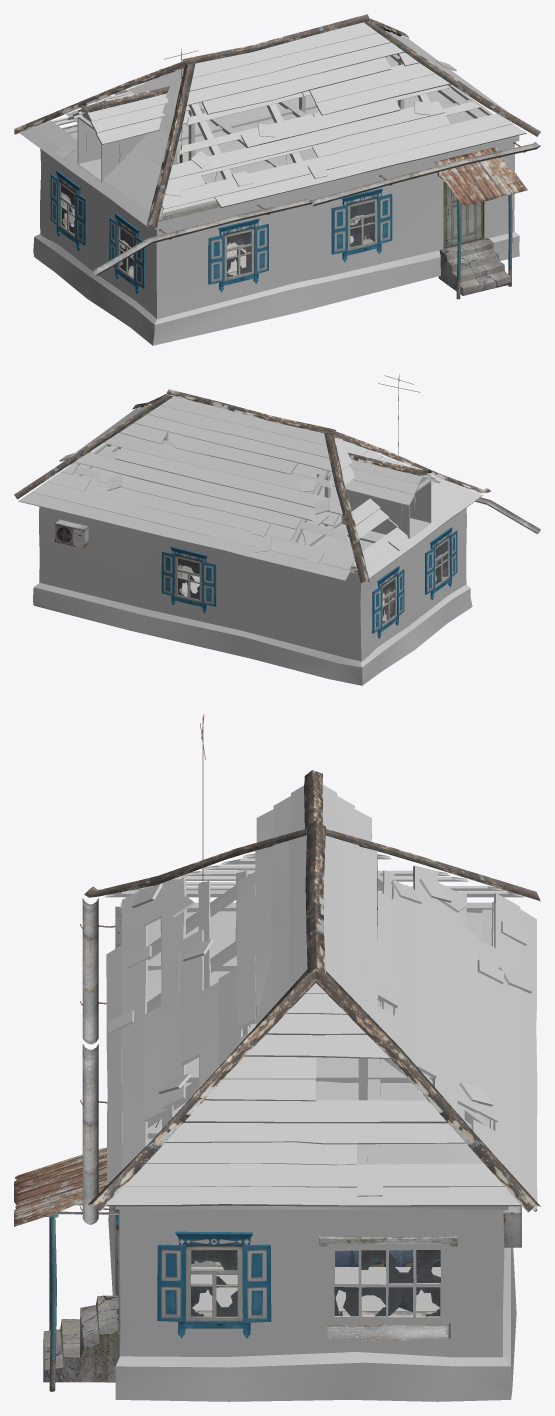
Rendered from Houses_Ready_10.FBX.
The picture shows the model from 3 angles, top to bottom: view 1: azimuth 30°, elevation 25°; view 2: azimuth 150°, elevation 25°; view 3: azimuth 270°, elevation 25°; orthographic projection. The views are drawn at different scales.
Parts seen in each view (by area): view 1: Roof_16, Corps_01_7, Foundation_04, Attic_05, Peak_04, Windows_12_2 (×2), Windows_12 (×2), Porch_02_1, Drain_01, Porch_02_2, Wood_Roof_16_2, Door_03 (+2 smaller); view 2: Roof_16, Corps_01_7, Foundation_04, Peak_04, Windows_12_2 (×2), Attic_05, Wood_Roof_16_2, Windows_12, Air_01, Peak_04_2, Drain_01; view 3: Roof_16, Corps_01_7, Foundation_04, Peak_04, Attic_05, Windows_12_2, Drain_01, Porch_02_1, Porch_02_2, Windows_Big_04, Outflow_Big_01, Peak_04_2.
Part boxes in pixels (x1,y1,x2,y2): Roof_16: [19, 22, 526, 226]; Corps_01_7: [40, 124, 519, 319]; Foundation_04: [33, 232, 519, 345]; Attic_05: [56, 54, 493, 220]; Peak_04: [14, 14, 540, 228]; Windows_12_2 (×2): [50, 170, 268, 292]; Windows_12 (×2): [109, 188, 392, 293]; Porch_02_1: [434, 147, 527, 299]; Drain_01: [92, 142, 540, 276]; Porch_02_2: [438, 238, 510, 295]; Wood_Roof_16_2: [77, 112, 177, 181]; Door_03: [446, 183, 481, 246]; Roof_16: [18, 396, 482, 581]; Corps_01_7: [39, 506, 466, 661]; Foundation_04: [33, 583, 472, 685]; Peak_04: [14, 389, 491, 583]; Windows_12_2 (×2): [161, 546, 404, 638]; Attic_05: [73, 432, 385, 573]; Wood_Roof_16_2: [341, 476, 431, 538]; Windows_12: [425, 527, 457, 599]; Air_01: [54, 519, 88, 548]; Peak_04_2: [348, 452, 432, 475]; Drain_01: [475, 497, 540, 534]; Roof_16: [104, 784, 537, 1211]; Corps_01_7: [115, 906, 508, 1357]; Foundation_04: [108, 1206, 516, 1401]; Peak_04: [84, 820, 540, 1212]; Attic_05: [120, 870, 493, 1164]; Windows_12_2: [157, 1231, 271, 1338]; Drain_01: [80, 898, 119, 1224]; Porch_02_1: [14, 1147, 119, 1391]; Porch_02_2: [43, 1295, 119, 1382]; Windows_Big_04: [327, 1243, 449, 1324]; Outflow_Big_01: [326, 1323, 450, 1340]; Peak_04_2: [304, 770, 322, 828].
Size of the model in its own units: 1457 by 903 by 847.
